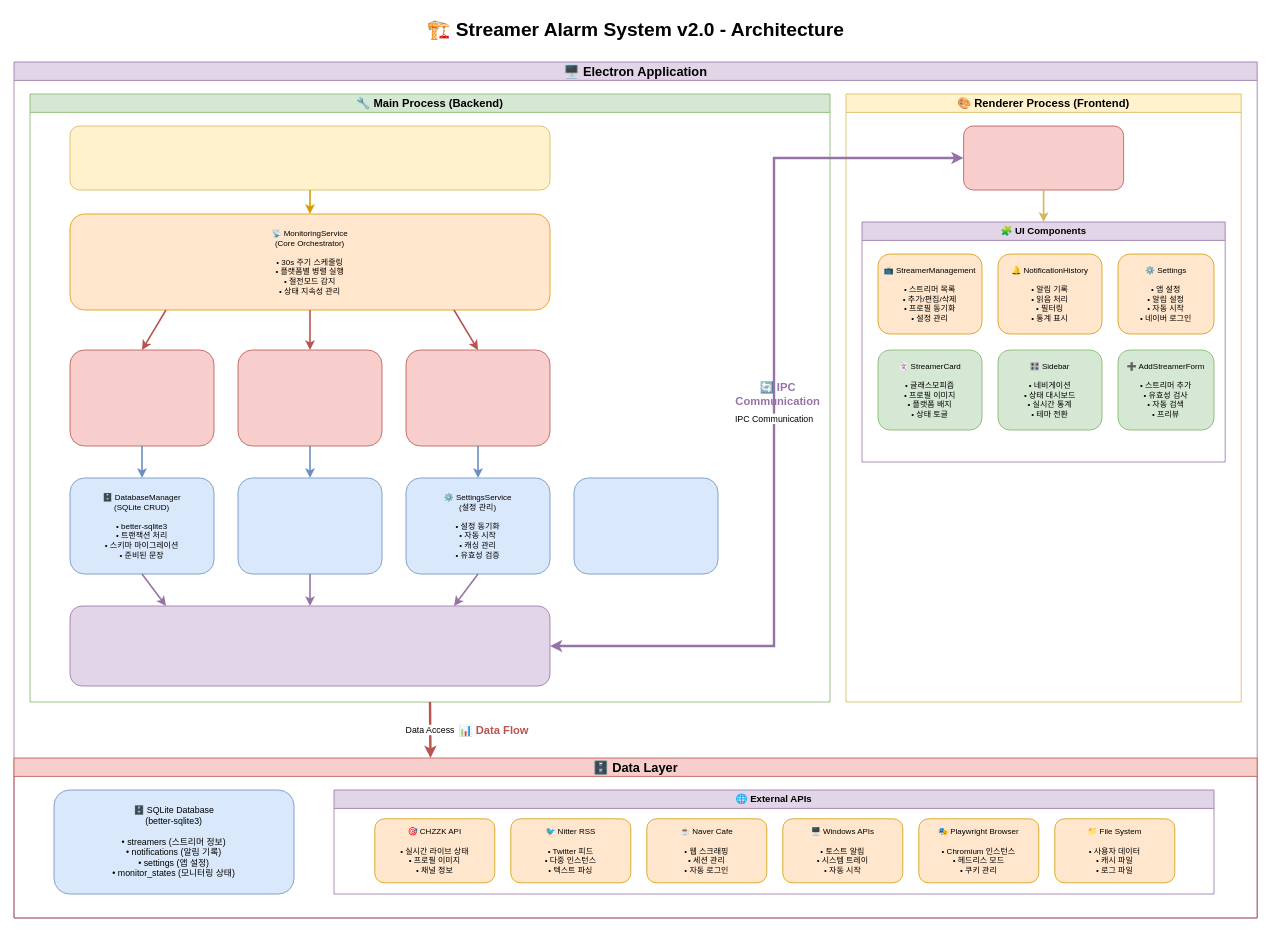
Image size: 1271x932. Some labels were removed from this diagram. Here are the shapes that lost their labels. From the top down, the centre of each, then its label:
At [309,157]: "🎯 StreamerAlarmApp (Application Core)".
At [1043,157]: "⚛️ React 18.2.0 + TypeScript 5.3.3 + Tailwind CSS".
At [141,397]: "🎯 ChzzkMonitor (CHZZK API) • 실시간 라이브 감지 • 프로필 이미지 동기화 • HTTP 연결 풀링 • 상태 변경 감지".
At [309,397]: "🐦 TwitterMonitor (RSS Parser) • RSS 피드 파싱 • 다중 인스턴스 전환 • 텍스트 정리 • 중복 제거".
At [477,397]: "☕ CafeMonitor (Playwright) • 브라우저 자동화 • 세션 관리 • 자동 로그인 • iframe 접근".
At [309,525]: "🔔 NotificationService (알림 통합) • Windows 토스트 • 리치 알림 • 클릭 액션 • 폴백 메커니즘".
At [645,525]: "🎭 TrayService (시스템 통합) • 동적 아이콘 • 컨텍스트 메뉴 • 상태 표시 • 시스템 통합".
At [309,645]: "🌉 IPC Bridge (preload.js) • Context Bridge • 안전한 API 노출 • 양방향 통신 • 이벤트 전달".
